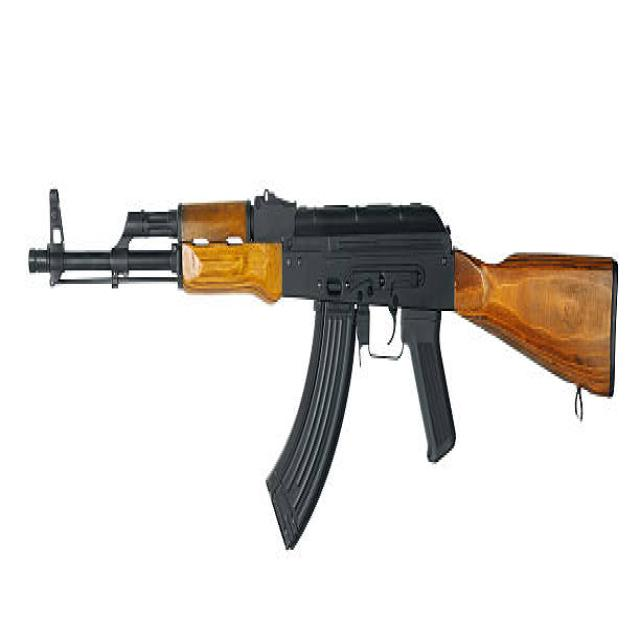rifle: (23, 175, 624, 560)
